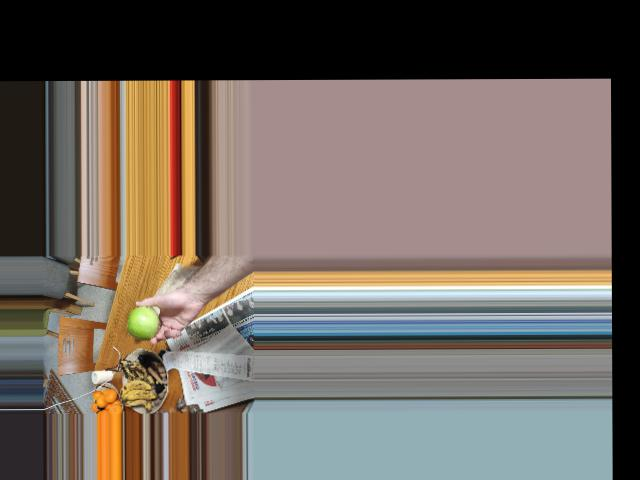apple: (125, 307, 160, 340)
